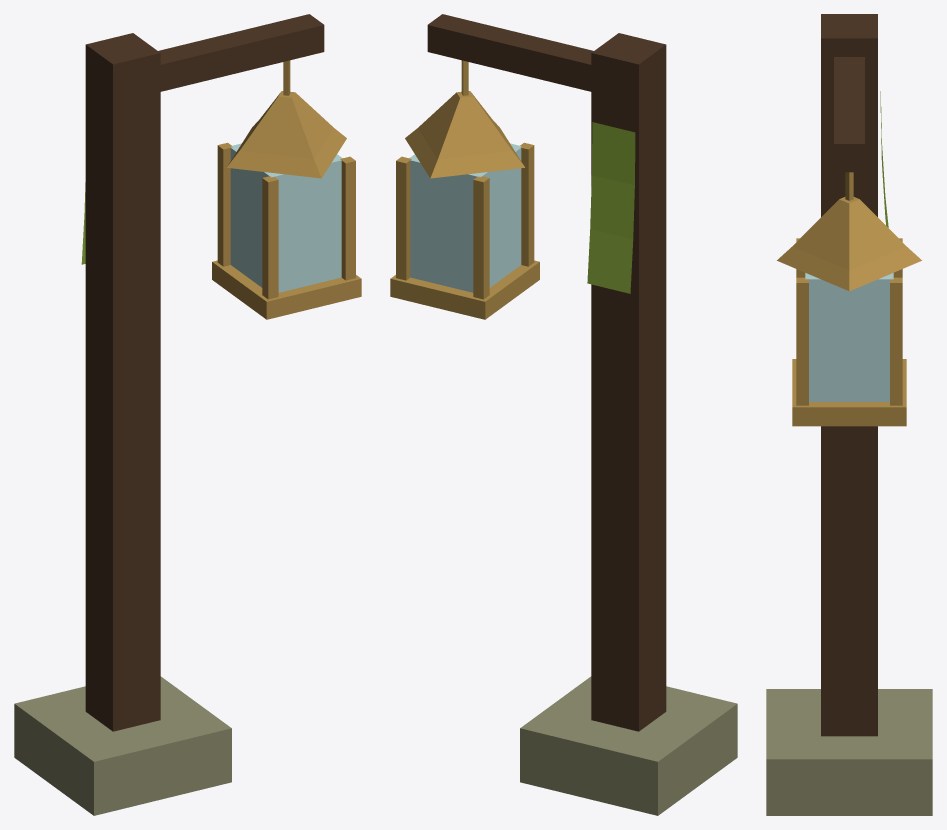
The model's file is terraza_farol.glb.
3 renders of one model, left to right at view 1: azimuth 30°, elevation 25°; view 2: azimuth 150°, elevation 25°; view 3: azimuth 270°, elevation 25°, orthographic. The views are drawn at different scales.
Parts seen in each view (by area): view 1: terraza_farol; view 2: terraza_farol; view 3: terraza_farol.
Part boxes in pixels (x1,y1,x2,y2): terraza_farol: (14,14,361,815); terraza_farol: (390,14,737,815); terraza_farol: (766,14,932,815).
Size of the model in its own units: 0.68 by 1.6 by 0.32.
